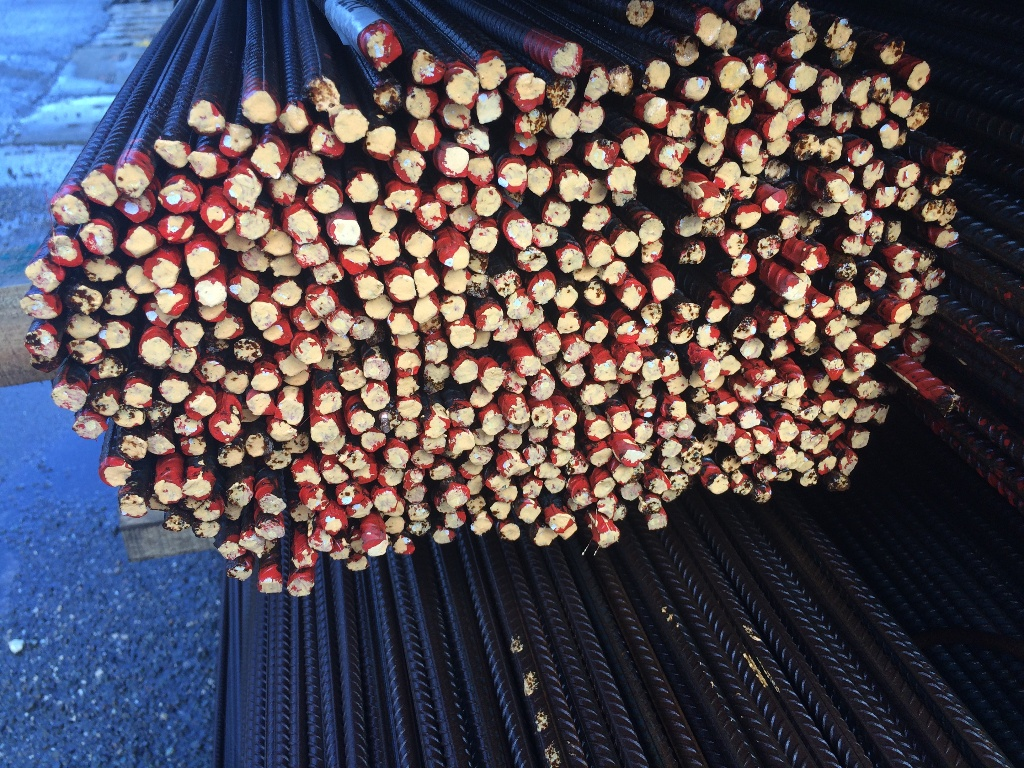dipstick: (360, 22, 402, 69), (222, 174, 261, 212), (188, 103, 226, 139), (155, 184, 199, 215), (444, 66, 478, 106), (121, 225, 161, 258), (195, 202, 235, 235), (510, 72, 545, 109), (24, 261, 64, 293), (309, 125, 346, 159), (78, 221, 115, 255), (49, 196, 90, 226), (346, 172, 380, 208), (48, 235, 85, 268), (333, 109, 366, 145), (290, 151, 326, 184), (307, 182, 345, 213), (64, 285, 104, 314), (410, 50, 445, 83), (365, 126, 398, 161), (304, 79, 340, 111), (154, 216, 195, 244), (81, 172, 115, 205), (251, 144, 286, 176), (18, 331, 58, 359), (242, 92, 278, 123), (113, 165, 150, 195), (184, 246, 221, 276), (558, 167, 588, 204), (188, 150, 227, 178), (586, 138, 619, 171), (84, 256, 124, 283), (278, 104, 310, 137), (497, 162, 530, 194), (286, 209, 320, 240), (549, 42, 583, 73), (235, 208, 270, 238), (153, 141, 189, 170), (410, 121, 443, 152), (414, 200, 447, 231), (139, 338, 173, 368), (153, 286, 190, 313), (221, 126, 252, 158), (438, 146, 470, 177), (476, 91, 505, 125), (374, 81, 403, 115), (99, 321, 133, 350), (641, 59, 670, 93), (701, 108, 728, 144), (407, 86, 437, 118), (19, 295, 59, 319), (546, 77, 578, 107), (576, 101, 606, 133), (718, 59, 750, 89), (457, 124, 490, 153), (71, 413, 105, 441), (726, 92, 754, 126), (194, 278, 229, 305), (51, 384, 86, 411), (157, 377, 192, 404), (124, 380, 155, 410), (371, 235, 401, 266), (621, 133, 652, 163), (440, 100, 472, 129), (117, 194, 150, 222), (147, 259, 181, 286), (259, 228, 293, 255), (295, 242, 330, 268), (478, 59, 508, 89), (125, 265, 155, 295), (100, 290, 136, 315), (247, 300, 277, 330), (221, 367, 251, 397), (395, 150, 424, 181), (141, 300, 172, 329), (330, 216, 361, 245), (369, 204, 400, 233), (550, 107, 579, 138), (65, 339, 104, 362), (271, 173, 299, 205), (99, 459, 131, 487), (338, 246, 370, 274), (466, 226, 498, 254), (644, 96, 671, 129), (66, 314, 100, 340), (695, 13, 721, 47), (385, 188, 420, 213), (472, 187, 501, 217), (583, 68, 611, 99), (822, 18, 853, 46), (545, 138, 576, 166), (506, 218, 534, 249), (787, 64, 818, 92), (658, 143, 689, 171), (234, 247, 270, 271), (275, 397, 304, 426), (231, 274, 261, 302), (170, 346, 200, 374), (186, 392, 216, 420), (465, 155, 495, 183), (606, 166, 636, 194), (274, 280, 305, 307), (556, 246, 587, 273), (172, 321, 204, 347), (751, 53, 777, 85), (294, 337, 323, 365), (710, 161, 739, 189), (758, 186, 786, 215), (543, 199, 573, 226), (816, 75, 843, 105), (860, 159, 887, 189), (153, 480, 184, 506), (322, 328, 353, 354), (625, 1, 656, 27), (516, 247, 547, 273), (254, 491, 289, 514), (439, 244, 471, 269), (91, 390, 119, 418), (211, 415, 239, 443), (388, 273, 416, 301), (448, 323, 476, 351), (23, 353, 62, 373), (117, 435, 147, 461), (610, 66, 636, 96), (879, 36, 905, 66), (117, 494, 148, 519), (279, 350, 310, 375), (405, 232, 436, 257), (435, 182, 466, 207), (696, 195, 729, 218), (413, 269, 440, 297), (672, 37, 700, 64), (697, 140, 725, 167), (505, 294, 534, 320), (668, 107, 694, 136), (677, 242, 706, 268), (795, 135, 821, 164), (177, 433, 207, 458), (517, 110, 547, 135), (528, 165, 553, 195), (889, 90, 914, 120), (731, 174, 756, 204), (271, 254, 302, 278), (354, 275, 385, 299), (509, 134, 541, 157), (907, 60, 930, 92), (316, 389, 343, 416), (322, 460, 349, 487), (307, 291, 335, 317), (216, 444, 244, 470), (362, 383, 390, 409), (443, 268, 469, 296), (649, 275, 675, 303), (240, 535, 273, 557), (682, 76, 711, 101), (764, 80, 789, 109), (733, 205, 762, 230), (819, 136, 844, 165), (755, 235, 784, 260), (872, 182, 897, 211), (246, 392, 276, 416), (91, 354, 122, 377), (233, 338, 264, 361), (145, 433, 176, 456), (197, 301, 229, 323), (113, 406, 145, 428), (848, 77, 870, 109), (611, 231, 638, 257), (215, 314, 243, 339), (225, 481, 253, 506), (374, 408, 402, 433), (586, 240, 614, 265), (293, 306, 322, 330), (716, 23, 740, 52), (263, 324, 293, 347), (362, 296, 392, 319), (489, 271, 519, 294), (174, 412, 205, 434), (221, 230, 255, 250), (619, 284, 645, 310), (824, 179, 850, 205), (327, 310, 354, 335), (363, 357, 390, 382), (785, 1, 810, 28), (807, 103, 832, 130), (668, 320, 695, 345), (582, 206, 610, 230), (846, 140, 874, 164), (198, 358, 227, 381), (145, 403, 174, 426), (531, 276, 554, 305), (940, 389, 963, 418), (734, 1, 764, 23), (313, 264, 344, 285), (424, 338, 449, 364), (831, 41, 856, 67), (451, 206, 476, 232), (477, 304, 502, 330), (555, 309, 580, 335), (844, 189, 869, 215), (320, 433, 347, 457), (294, 463, 321, 487), (413, 295, 440, 319), (729, 470, 753, 497), (190, 520, 224, 539), (246, 434, 274, 457), (268, 420, 296, 443), (763, 160, 791, 183), (754, 426, 776, 455), (339, 448, 369, 469), (784, 101, 805, 131), (386, 446, 411, 471), (530, 376, 555, 401), (729, 280, 754, 305), (521, 305, 545, 331), (441, 297, 467, 321), (877, 122, 901, 148), (896, 163, 922, 187), (897, 187, 923, 211), (738, 337, 764, 361), (339, 368, 366, 391), (533, 223, 560, 246), (638, 218, 665, 241), (907, 104, 930, 131), (764, 133, 791, 156), (776, 213, 799, 240), (192, 502, 223, 522), (283, 433, 311, 455), (557, 364, 585, 386), (655, 167, 683, 189), (835, 281, 857, 309), (256, 520, 285, 541), (586, 177, 607, 206), (373, 489, 397, 514), (494, 319, 519, 343), (452, 358, 476, 383), (803, 247, 828, 271), (733, 316, 758, 340), (767, 313, 792, 337), (793, 319, 817, 344), (552, 426, 577, 450), (943, 150, 967, 175), (395, 352, 421, 375), (778, 35, 804, 58), (642, 239, 665, 265), (554, 286, 580, 309), (739, 133, 762, 159), (741, 153, 767, 176), (182, 477, 209, 499), (467, 272, 489, 299), (795, 209, 817, 236), (550, 514, 577, 536), (785, 180, 804, 211), (811, 198, 842, 217), (286, 578, 314, 599), (563, 340, 591, 361), (675, 215, 703, 236), (932, 227, 960, 248), (351, 410, 375, 434), (584, 320, 608, 344), (831, 110, 855, 134), (725, 233, 749, 257), (696, 324, 720, 348), (737, 381, 761, 405), (897, 275, 921, 299), (891, 248, 915, 272), (202, 329, 227, 352), (361, 431, 386, 454), (504, 370, 527, 395), (701, 216, 726, 239), (835, 258, 858, 283), (597, 496, 622, 519), (777, 420, 800, 445), (420, 434, 446, 456), (480, 366, 502, 392), (768, 338, 794, 360), (595, 529, 621, 551), (421, 362, 451, 381), (265, 449, 292, 470), (310, 422, 338, 442), (388, 312, 416, 332), (309, 530, 332, 554), (603, 261, 627, 284), (764, 112, 787, 136), (697, 359, 720, 383), (450, 404, 474, 427), (872, 74, 891, 103), (705, 299, 730, 321), (581, 384, 606, 406), (665, 373, 690, 395), (354, 314, 375, 340), (419, 313, 445, 334), (831, 330, 857, 351), (737, 407, 763, 428), (162, 512, 189, 532), (320, 514, 347, 534), (348, 500, 375, 520), (378, 467, 405, 487), (392, 377, 419, 397), (672, 302, 700, 321), (615, 320, 639, 342), (640, 301, 662, 325), (864, 266, 886, 290), (390, 333, 421, 350), (352, 463, 377, 484), (468, 330, 493, 351), (587, 417, 612, 438), (610, 407, 631, 432), (915, 250, 936, 275), (335, 485, 361, 505), (390, 536, 416, 556), (846, 211, 872, 231), (611, 186, 638, 205), (535, 334, 562, 353), (785, 298, 812, 317), (495, 432, 525, 449), (147, 492, 169, 515), (364, 536, 387, 558), (840, 234, 862, 257), (812, 295, 835, 317), (509, 401, 531, 424), (555, 408, 578, 430), (666, 396, 688, 419), (923, 267, 945, 290), (922, 201, 944, 224), (305, 489, 329, 510), (861, 102, 882, 126), (472, 385, 493, 409), (799, 27, 818, 53), (940, 199, 957, 228), (449, 433, 476, 451), (399, 398, 421, 420), (584, 283, 606, 305), (824, 314, 846, 336), (621, 352, 643, 374), (446, 486, 468, 508), (519, 502, 541, 524), (290, 502, 313, 523), (798, 336, 821, 357), (718, 356, 741, 377), (484, 413, 507, 434), (521, 479, 544, 500), (524, 443, 545, 466), (631, 421, 654, 442), (634, 396, 657, 417), (774, 445, 795, 468), (787, 375, 808, 398), (395, 420, 419, 440), (518, 356, 542, 376), (715, 420, 735, 444), (852, 351, 876, 371), (533, 463, 561, 480), (731, 256, 756, 275), (827, 474, 852, 493), (532, 405, 554, 426), (708, 472, 730, 493), (792, 454, 814, 475), (810, 374, 832, 395), (930, 175, 952, 196), (293, 550, 316, 570), (594, 361, 617, 381), (469, 446, 492, 466), (613, 461, 633, 484), (429, 464, 456, 481), (238, 405, 263, 423), (227, 565, 252, 583), (382, 516, 407, 534), (884, 219, 902, 244), (456, 461, 481, 479), (825, 355, 842, 381), (637, 326, 658, 347), (465, 495, 486, 516), (471, 516, 492, 537), (733, 434, 754, 455), (818, 453, 839, 474), (568, 454, 590, 474), (589, 446, 611, 466), (753, 367, 775, 387), (798, 402, 820, 422), (781, 393, 801, 415), (434, 495, 457, 514), (573, 266, 600, 282), (472, 429, 496, 447), (858, 381, 882, 399), (889, 303, 913, 321), (637, 498, 662, 515), (837, 398, 854, 423), (660, 354, 680, 375), (529, 423, 549, 444), (765, 380, 785, 401), (850, 429, 870, 450), (854, 402, 874, 423), (885, 320, 906, 340), (405, 482, 427, 501), (643, 359, 662, 381), (489, 501, 511, 520), (549, 447, 571, 466), (594, 477, 616, 496), (620, 482, 642, 501), (676, 417, 695, 439), (647, 476, 669, 495), (840, 453, 859, 475), (219, 541, 242, 559), (866, 221, 884, 244), (794, 270, 812, 293), (431, 529, 454, 547), (566, 497, 589, 515), (284, 372, 311, 387), (224, 501, 244, 521), (407, 504, 432, 520), (470, 252, 490, 272), (785, 278, 805, 298), (621, 447, 641, 467), (657, 419, 677, 439), (703, 433, 719, 458), (850, 294, 870, 314), (661, 439, 682, 458), (697, 403, 716, 424), (826, 421, 845, 442), (917, 295, 938, 314), (259, 575, 281, 593), (799, 429, 817, 451), (872, 329, 890, 351), (347, 555, 370, 572), (486, 474, 510, 490), (536, 528, 556, 547), (637, 376, 656, 396), (752, 484, 771, 504), (838, 165, 856, 186), (689, 369, 707, 390), (759, 463, 777, 484), (412, 451, 434, 468), (815, 433, 831, 456), (681, 133, 700, 152), (500, 458, 519, 477), (404, 468, 424, 486), (631, 459, 646, 483), (646, 515, 670, 530), (719, 397, 737, 417), (799, 468, 819, 486), (500, 524, 521, 541), (544, 476, 565, 493), (573, 489, 595, 505), (660, 458, 682, 474), (683, 446, 705, 462), (720, 454, 742, 470), (741, 450, 763, 466), (874, 403, 890, 425), (842, 367, 865, 382), (712, 339, 731, 357), (330, 545, 350, 562), (860, 238, 876, 259), (506, 420, 530, 434), (444, 513, 466, 528), (908, 339, 926, 357), (671, 473, 690, 490), (408, 521, 431, 535), (442, 444, 462, 460), (616, 370, 635, 386), (845, 312, 864, 328), (497, 487, 517, 502), (640, 441, 654, 462), (822, 399, 839, 416), (467, 477, 483, 495), (913, 314, 931, 330), (352, 537, 367, 556), (390, 500, 405, 519), (817, 411, 836, 426), (602, 380, 618, 397), (540, 351, 558, 366), (664, 488, 682, 503), (683, 461, 701, 476), (777, 466, 791, 485), (706, 379, 727, 391), (693, 389, 712, 401)
